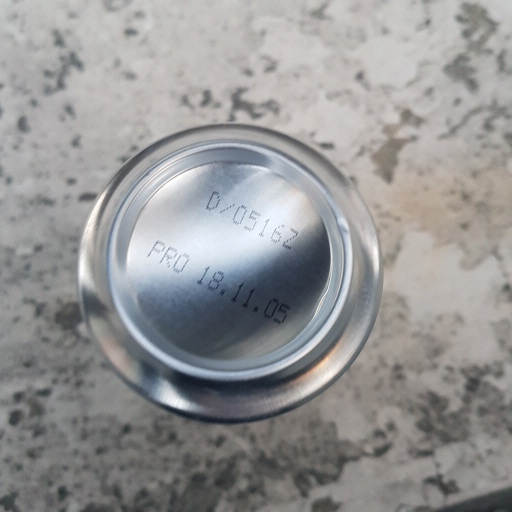Metal_0: (72, 121, 385, 424)
